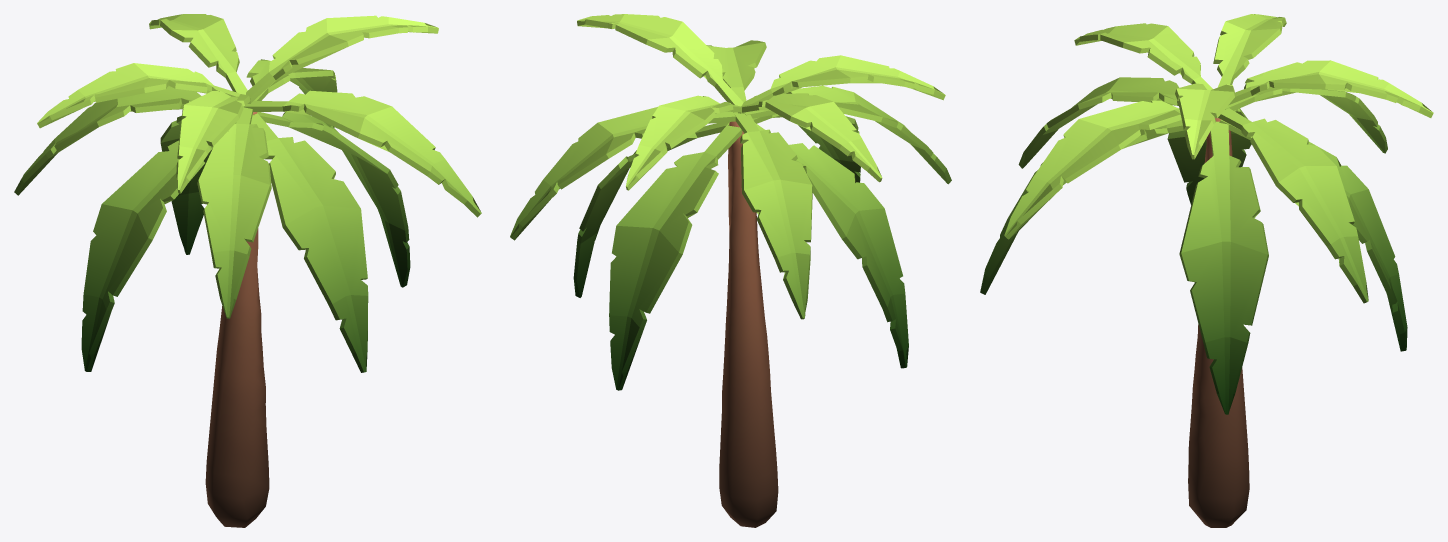
The model's file is PalmTrees_2.fbx.
The picture shows the model from 3 angles, left to right: view 1: azimuth 30°, elevation 25°; view 2: azimuth 150°, elevation 25°; view 3: azimuth 270°, elevation 25°; orthographic projection. The views are drawn at different scales.
Visible parts, largest first — view 1: PalmTrees_1; view 2: PalmTrees_1; view 3: PalmTrees_1.
Part boxes in pixels (x1=…): PalmTrees_1: x1=14, y1=14, x2=481, y2=527; PalmTrees_1: x1=510, y1=14, x2=951, y2=527; PalmTrees_1: x1=980, y1=14, x2=1433, y2=527.
Bounding box in the file's own units: 587 × 751 × 641.
